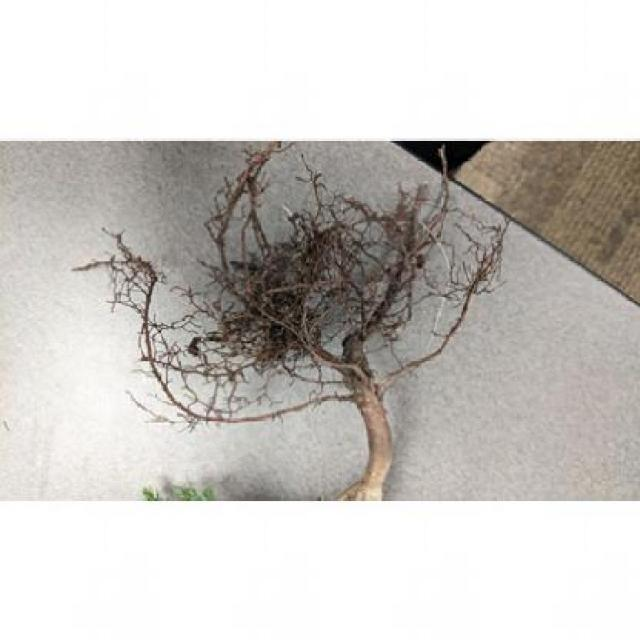root: (203, 219, 324, 351)
